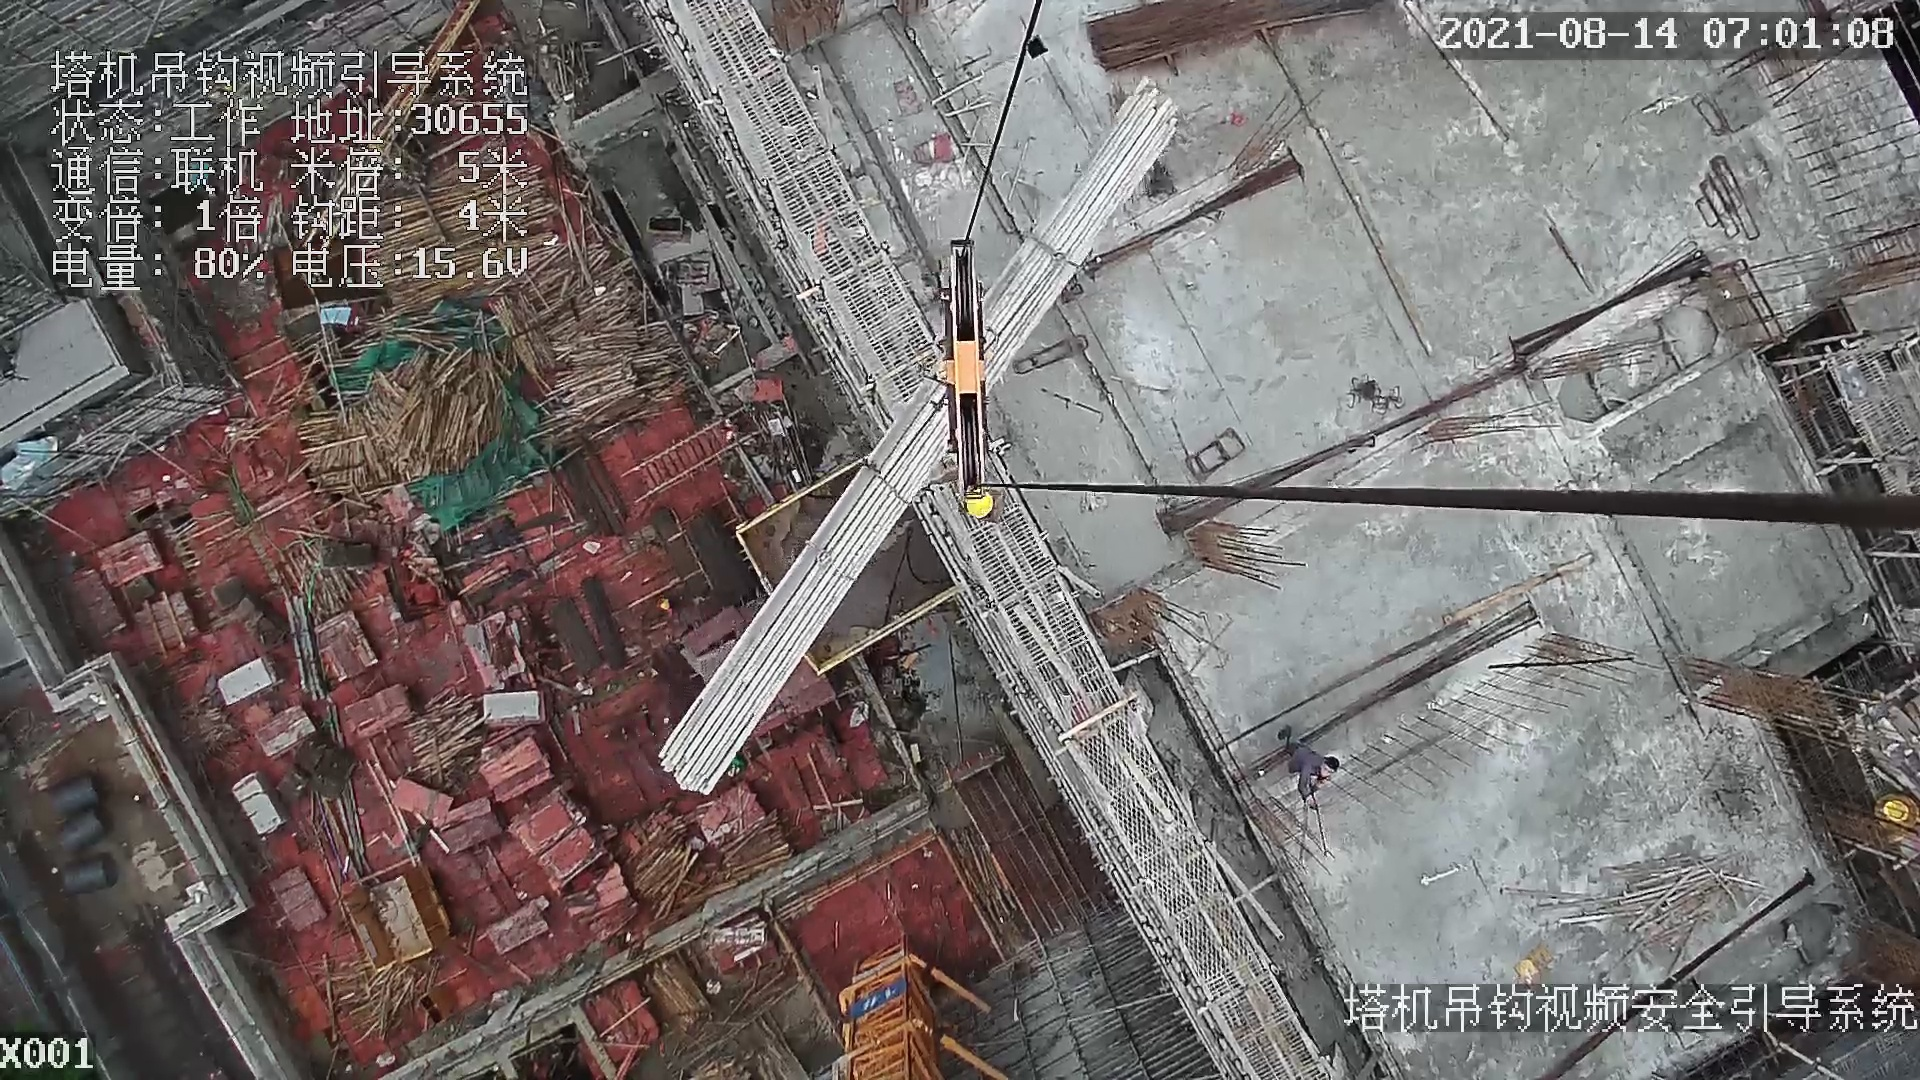helmet: (965, 488, 999, 521)
hook: (914, 227, 999, 495)
person: (1278, 721, 1341, 814), (951, 485, 1008, 530)
